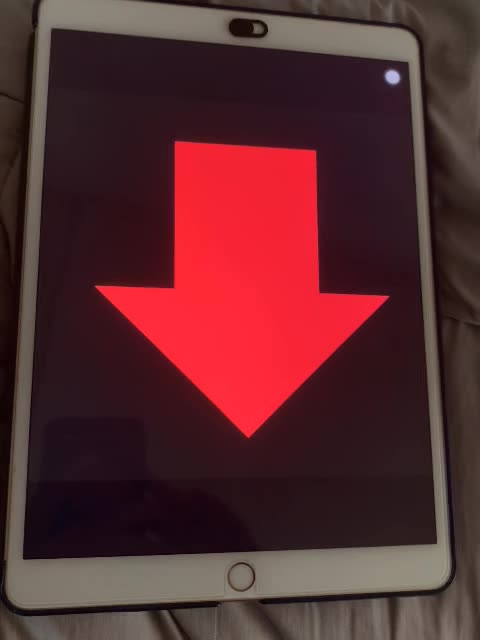down: (83, 133, 397, 444)
